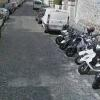Motorcycle: (53, 22, 100, 77)
